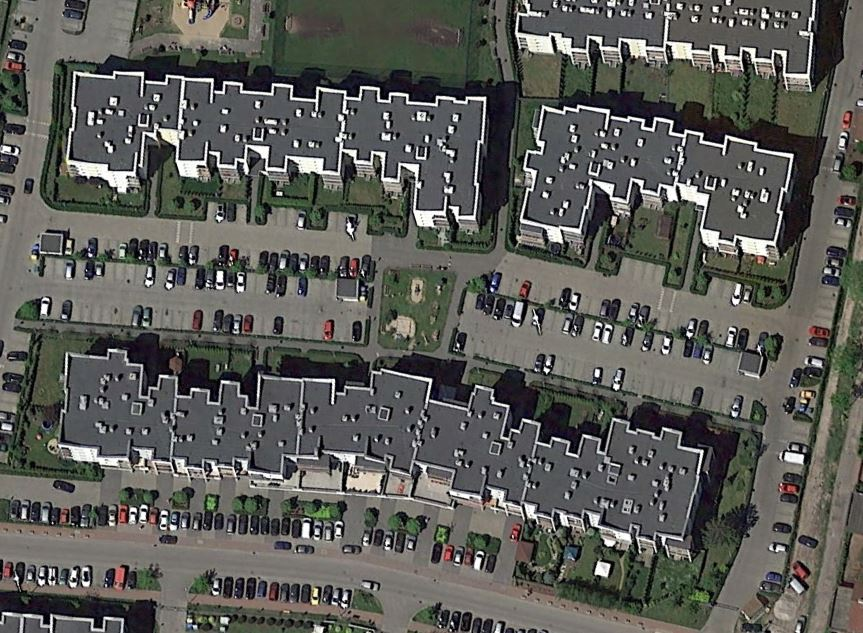block of flats: (52, 340, 723, 566), (64, 66, 494, 237), (514, 96, 802, 274), (506, 1, 823, 96)
